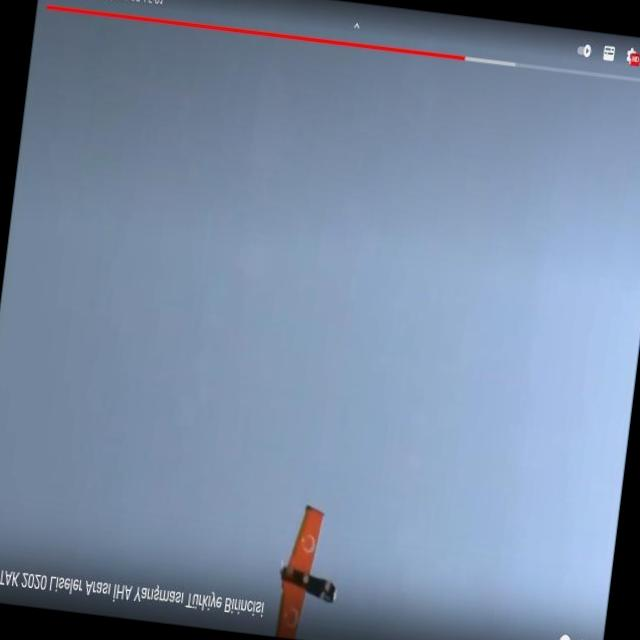UAV: (240, 495, 365, 640)
